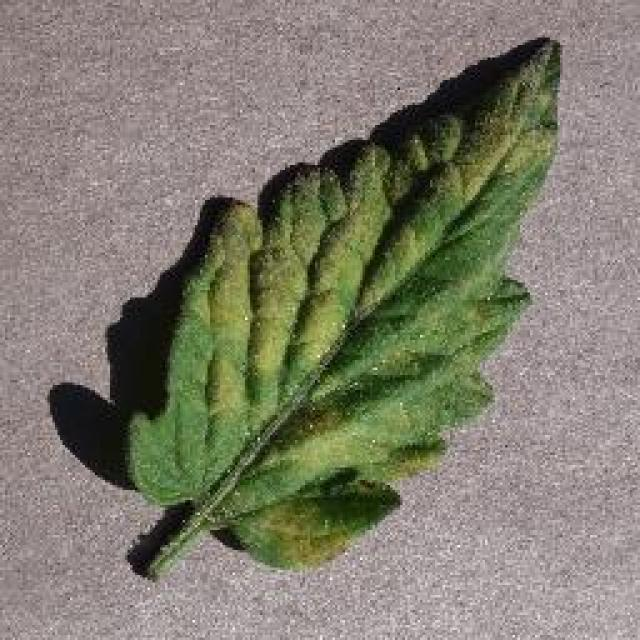Tomato mold leaf: (131, 35, 564, 572)
